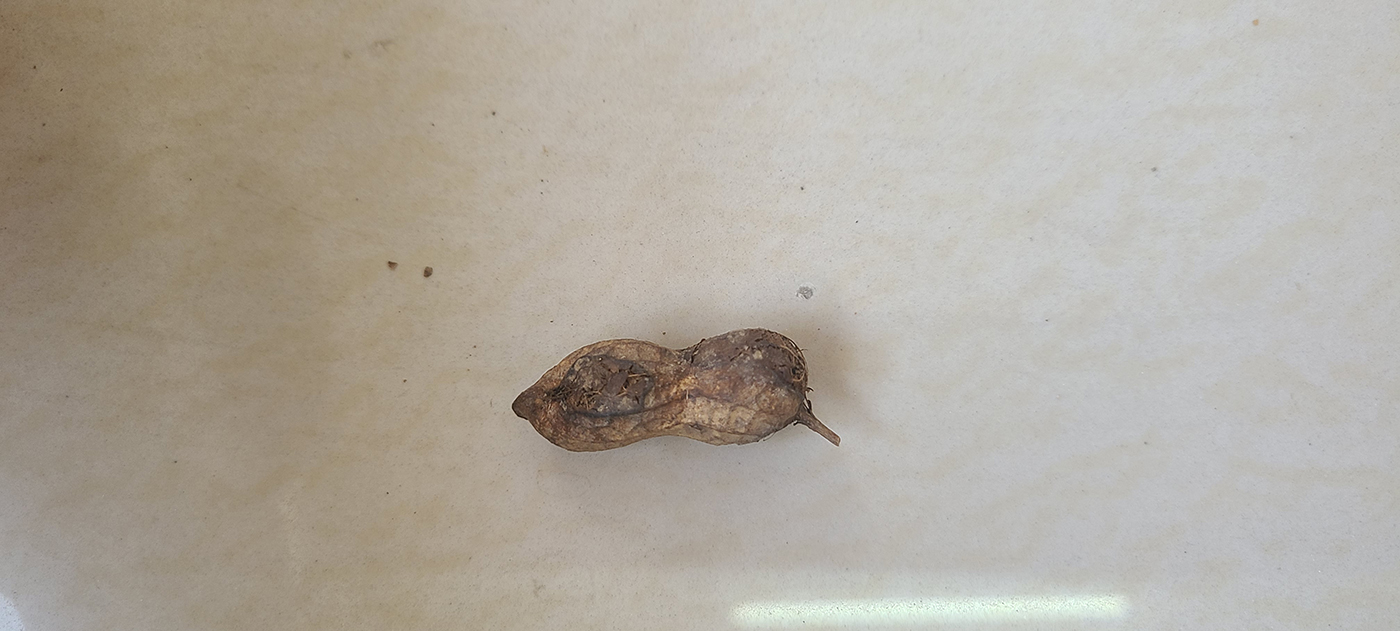l: (506, 324, 815, 452)
